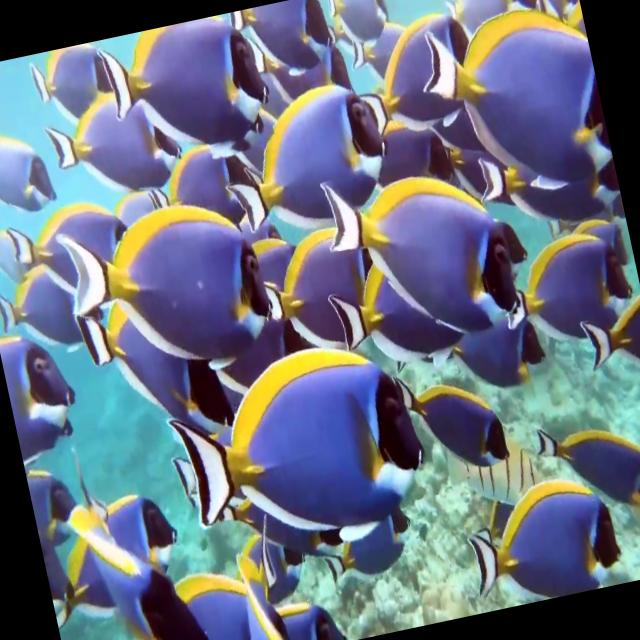fish: (164, 331, 436, 564), (320, 148, 530, 364), (55, 188, 278, 384), (420, 0, 618, 217), (220, 70, 405, 234), (103, 8, 280, 169), (53, 472, 217, 640), (458, 470, 630, 612), (34, 486, 193, 628), (492, 226, 630, 370), (347, 2, 484, 142), (42, 82, 184, 203), (393, 357, 512, 479), (533, 408, 640, 523), (0, 323, 84, 458), (222, 0, 340, 96), (27, 36, 136, 132), (0, 252, 90, 357), (0, 119, 57, 220)
